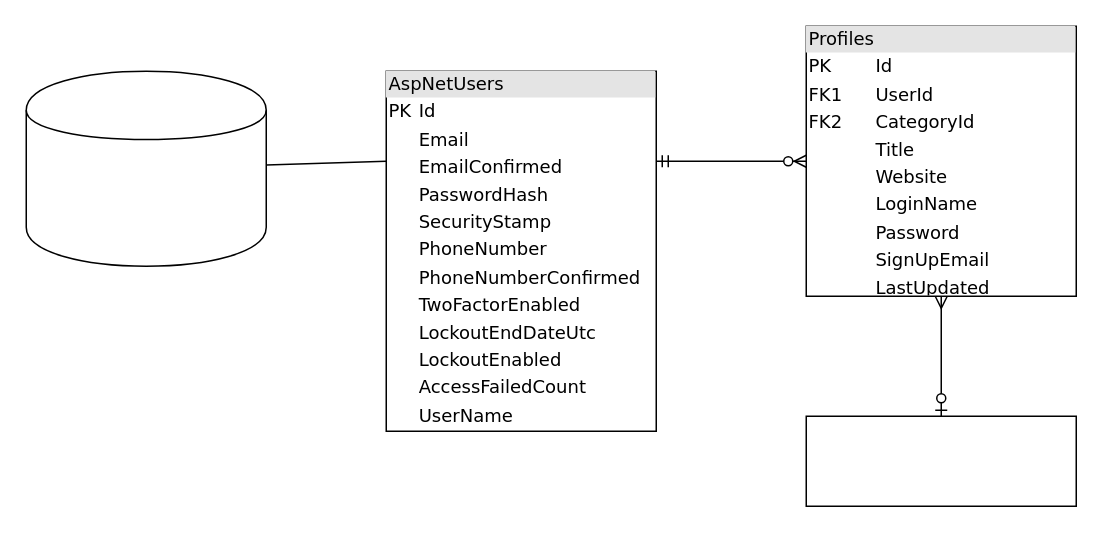
This 1103x533 diagram has some shape labels left out. The shapes that lost their labels are listed below. From the top down, each one's centre as x and y in pixels, then its label:
At point 145,168: "ASP.NET Identity Tables".
At point 940,460: "Categories PK Id Name".
